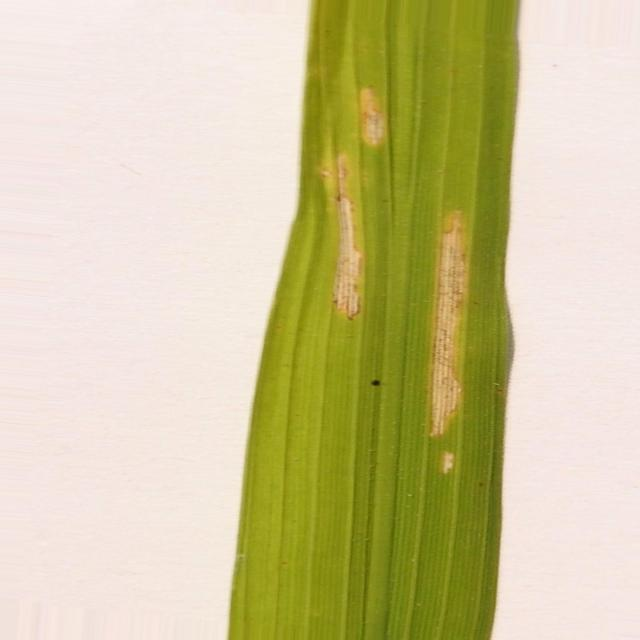Bacterial_Leaf_Blight: (431, 211, 468, 436), (334, 154, 362, 319), (360, 88, 385, 146), (440, 451, 455, 474)
